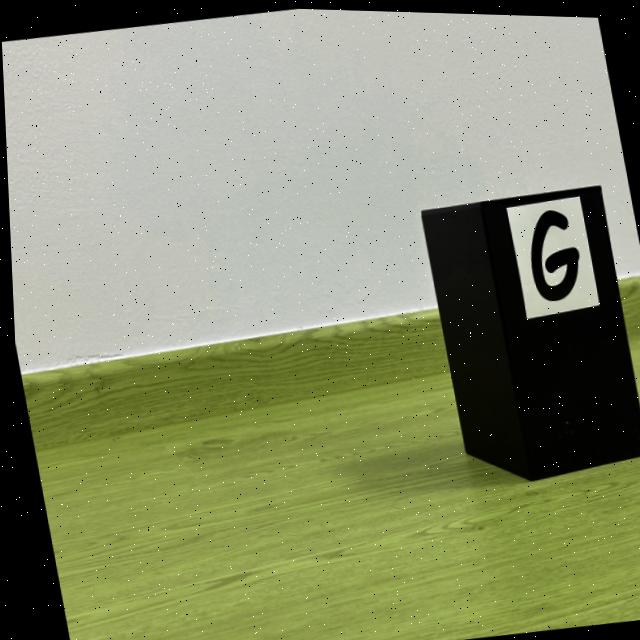G: (529, 207, 577, 298)
